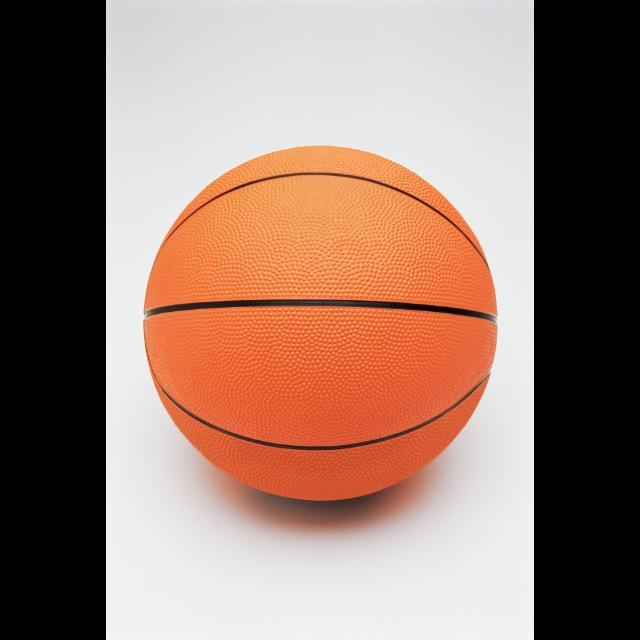basketball: (146, 147, 498, 501)
